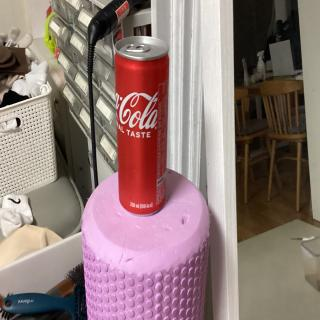cocacola: (113, 39, 178, 217)
